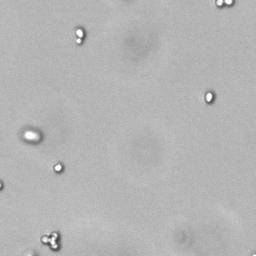budding: (74, 27, 85, 46), (215, 1, 234, 8)
cluster: (40, 230, 63, 251)
individual: (52, 161, 64, 173), (204, 91, 214, 103)
